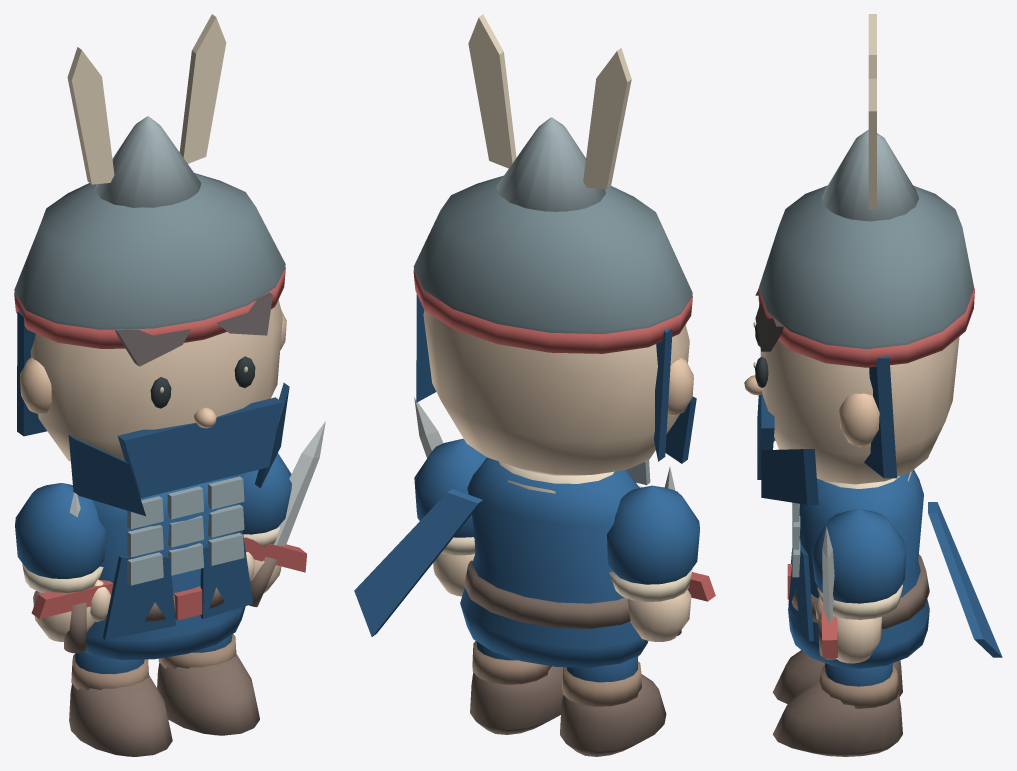
File: assassin.glb
3 renders of one model, left to right at view 1: azimuth 30°, elevation 25°; view 2: azimuth 150°, elevation 25°; view 3: azimuth 270°, elevation 25°, orthographic. The views are drawn at different scales.
Parts seen in each view (by area): view 1: Regional helmet, Soft cheek head, Soft face mask, Short folded tunic, Puff sleeve, Round leather boot, Round leather boot.001, Goguryeo pointed crown, Feather plume.001, Feather plume, Coat fold, Helmet brow band (+29 smaller); view 2: Regional helmet, Soft cheek head, Short folded tunic, Puff sleeve, Long scarf tail, Goguryeo pointed crown, Helmet brow band, Round leather boot, Round leather boot.001, Broad leather belt, Feather plume.001, Feather plume (+13 smaller); view 3: Regional helmet, Soft cheek head, Short folded tunic, Puff sleeve.001, Round leather boot.001, Goguryeo pointed crown, Helmet brow band, Hood cheek cowl R, Long scarf tail, Lamellar neck flap.001, Little mitten.001, Boot turn cuff.001 (+12 smaller).
Boxes of the visible parts, x1,y1,x2,y2 form: Regional helmet: (14,173,285,329); Soft cheek head: (30,300,282,461); Soft face mask: (117,397,282,498); Short folded tunic: (84,475,245,659); Puff sleeve: (15,483,105,578); Round leather boot: (69,674,172,756); Round leather boot.001: (157,653,259,735); Goguryeo pointed crown: (95,116,201,207); Feather plume.001: (179,14,226,163); Feather plume: (67,47,114,184); Coat fold: (102,555,175,639); Helmet brow band: (14,267,285,348); Regional helmet: (413,175,692,333); Soft cheek head: (423,310,689,475); Short folded tunic: (460,457,648,667); Puff sleeve: (607,485,699,584); Long scarf tail: (354,489,482,636); Goguryeo pointed crown: (496,117,605,211); Helmet brow band: (413,269,692,353); Round leather boot: (560,674,666,756); Round leather boot.001: (470,666,562,734); Broad leather belt: (464,560,630,628); Feather plume.001: (468,14,516,168); Feather plume: (583,48,631,189); Regional helmet: (759,185,973,349); Soft cheek head: (760,336,959,484); Short folded tunic: (788,470,929,668); Puff sleeve.001: (811,509,906,603); Round leather boot.001: (772,679,902,756); Goguryeo pointed crown: (821,130,918,221); Helmet brow band: (758,287,974,367); Hood cheek cowl R: (761,449,818,504); Long scarf tail: (928,502,1002,657); Lamellar neck flap.001: (864,355,897,478); Little mitten.001: (836,616,881,663); Boot turn cuff.001: (819,665,899,708).
Bounding box in the file's own units: 0.8627 × 1.95 × 0.674.
